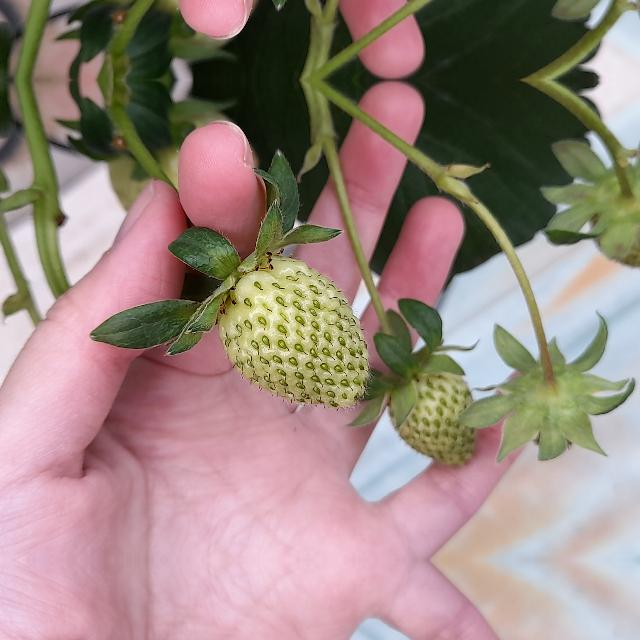Health_25: (218, 255, 368, 407)
